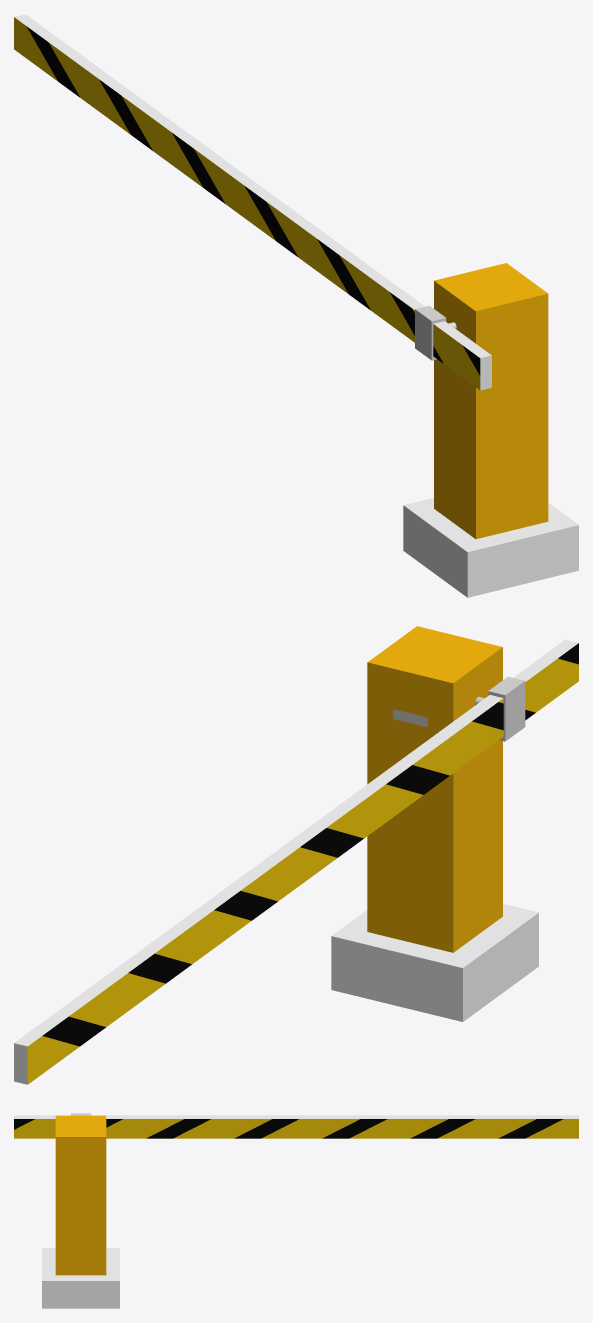
The model's file is cancela.glb.
The picture shows the model from 3 angles, top to bottom: view 1: azimuth 30°, elevation 25°; view 2: azimuth 150°, elevation 25°; view 3: azimuth 270°, elevation 25°; orthographic projection. The views are drawn at different scales.
Parts seen in each view (by area): view 1: box1, Gate_Arm_Side1, box; view 2: box1, Gate_Arm_Side1, box; view 3: box1, Gate_Arm_Side2, box.
Boxes of the visible parts, <box> form: box1: <box>403,263,578,597</box>; Gate_Arm_Side1: <box>14,17,480,390</box>; box: <box>14,14,491,390</box>; box1: <box>331,626,538,1021</box>; Gate_Arm_Side1: <box>27,643,578,1084</box>; box: <box>14,639,578,1084</box>; box1: <box>42,1115,119,1308</box>; Gate_Arm_Side2: <box>14,1119,578,1138</box>; box: <box>14,1113,578,1118</box>.
Size of the model in its own units: 0.6475 by 1.37 by 4.24.
